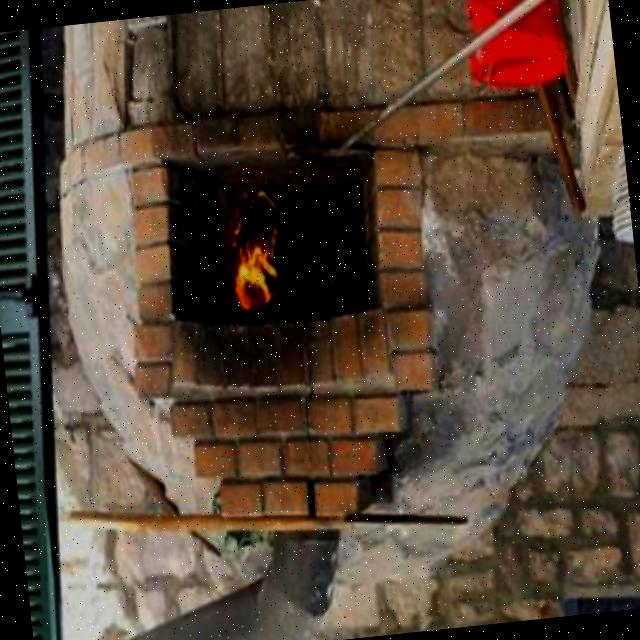fire: (220, 204, 288, 324)
